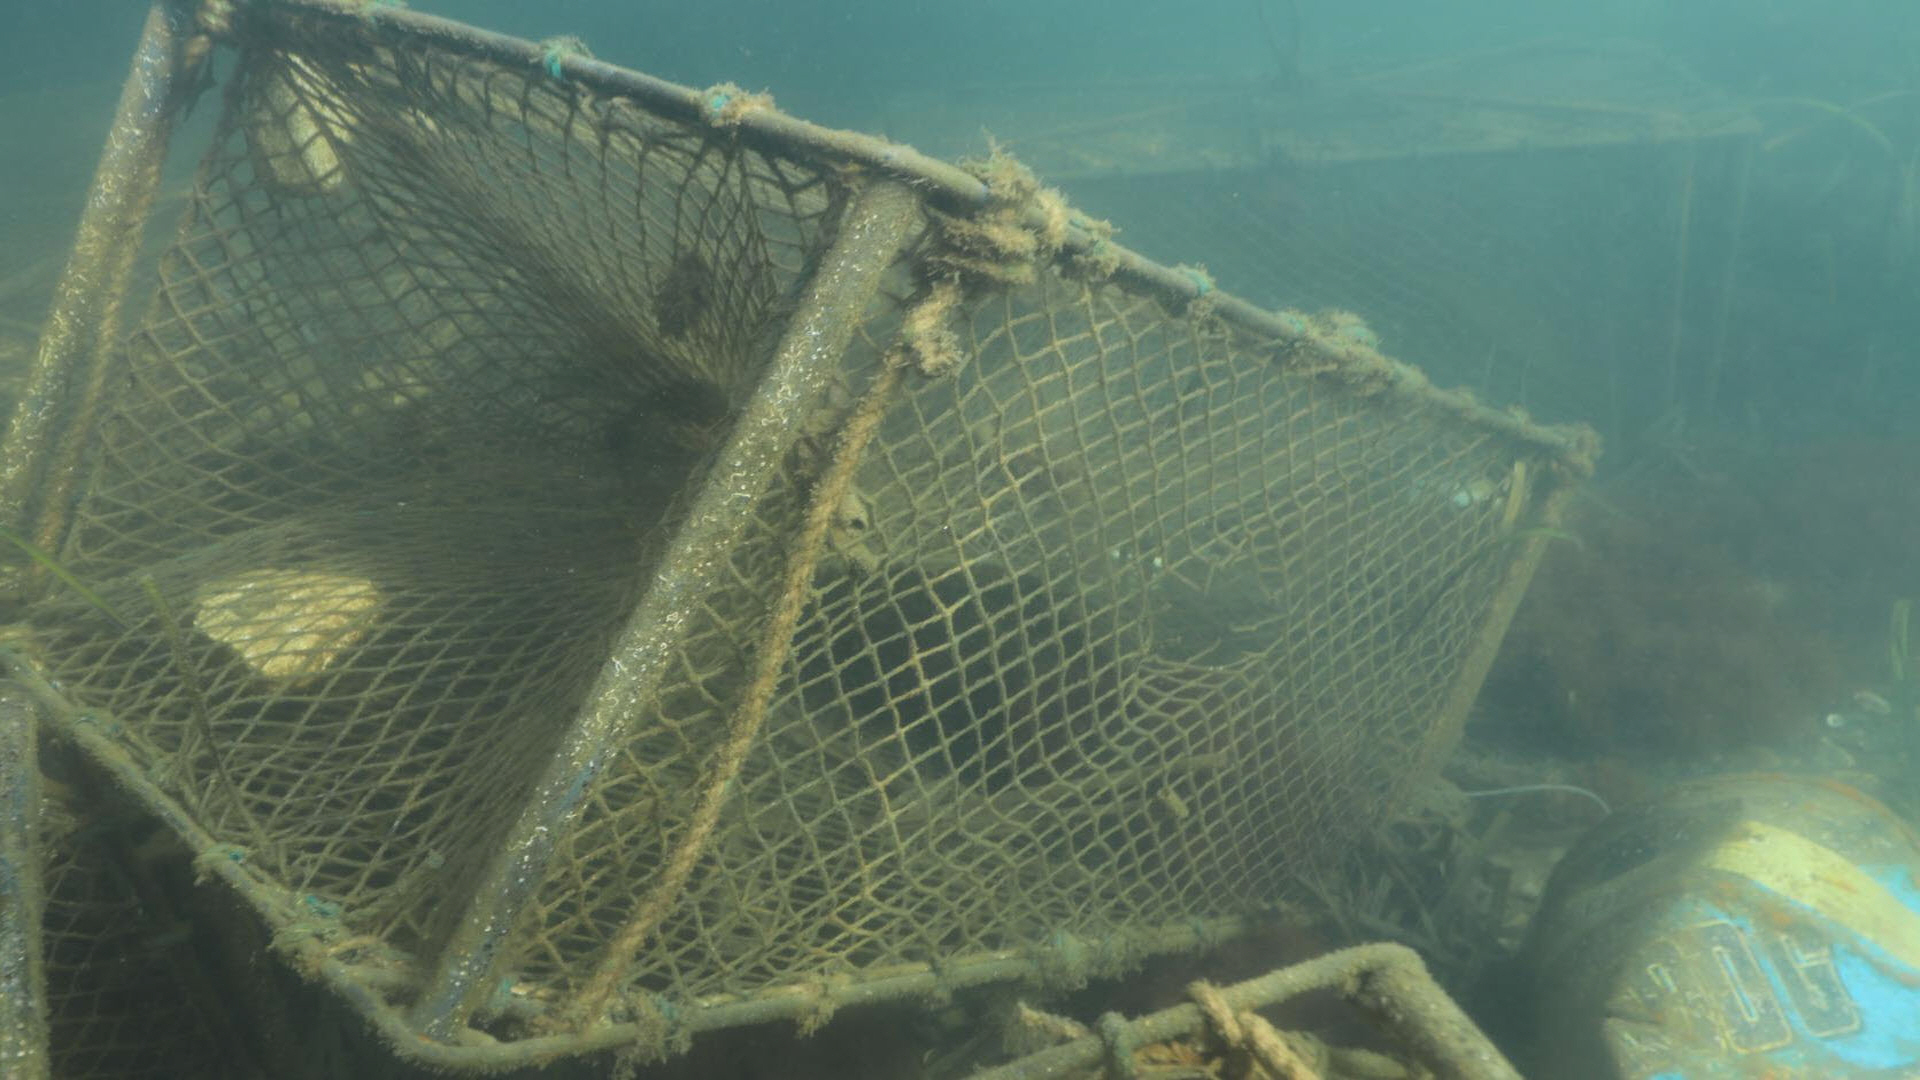rectangular fish trap: (0, 0, 1602, 1064), (949, 32, 1760, 458)
